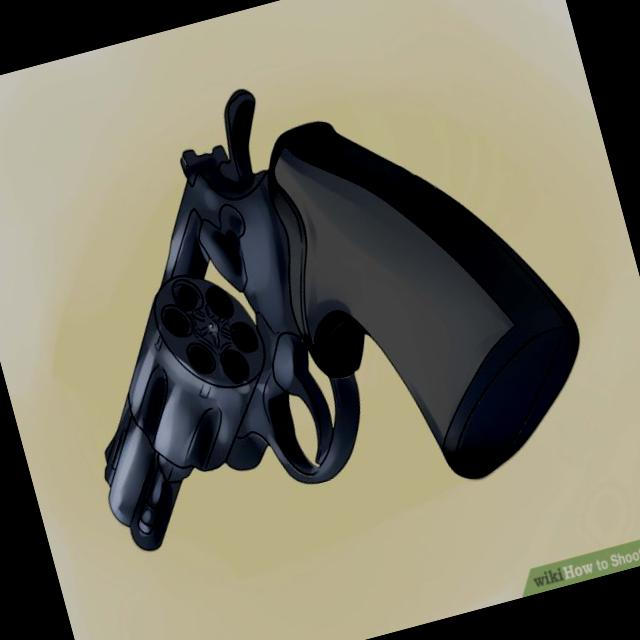handgun: (12, 22, 594, 576)
